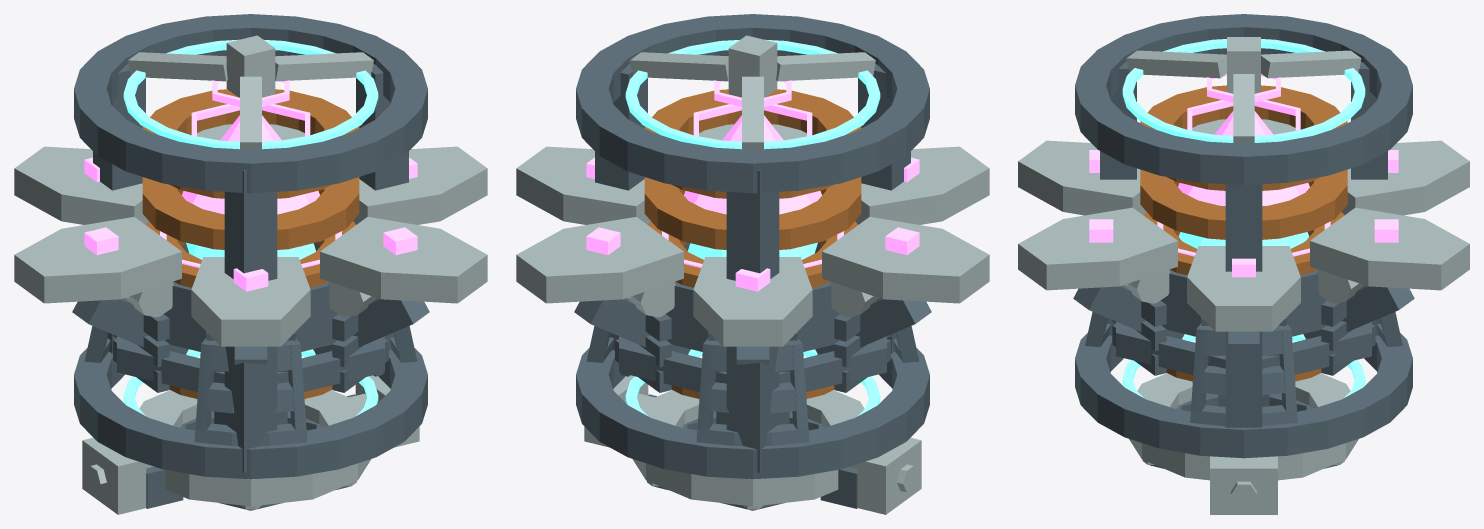
File: power_kit.glb
The picture shows the model from 3 angles, left to right: view 1: azimuth 30°, elevation 25°; view 2: azimuth 150°, elevation 25°; view 3: azimuth 270°, elevation 25°; orthographic projection. The views are drawn at different scales.
Parts seen in each view (by area): view 1: PK_surge_cage, PK_shield_petals, PK_surge_mount, PK_shield_housing, PK_surge_capacitors, PK_surge_core, PK_shield_core, PK_shield_lattice; view 2: PK_surge_cage, PK_shield_petals, PK_surge_mount, PK_shield_housing, PK_surge_capacitors, PK_surge_core, PK_shield_core, PK_shield_lattice; view 3: PK_surge_cage, PK_shield_petals, PK_surge_mount, PK_shield_housing, PK_surge_capacitors, PK_surge_core, PK_shield_core, PK_shield_lattice.
Part boxes in pixels (x1,y1,x2,y2): PK_surge_cage: [74, 14, 427, 479]; PK_shield_petals: [14, 124, 487, 346]; PK_surge_mount: [82, 35, 419, 514]; PK_shield_housing: [72, 242, 429, 510]; PK_surge_capacitors: [142, 89, 359, 398]; PK_surge_core: [123, 39, 378, 416]; PK_shield_core: [84, 115, 417, 291]; PK_shield_lattice: [191, 80, 310, 136]; PK_surge_cage: [576, 14, 929, 479]; PK_shield_petals: [516, 124, 989, 346]; PK_surge_mount: [584, 35, 921, 514]; PK_shield_housing: [574, 242, 931, 510]; PK_surge_capacitors: [644, 89, 861, 398]; PK_surge_core: [625, 39, 880, 416]; PK_shield_core: [586, 115, 919, 291]; PK_shield_lattice: [693, 80, 812, 136]; PK_surge_cage: [1075, 14, 1412, 458]; PK_shield_petals: [1018, 119, 1469, 331]; PK_surge_mount: [1126, 37, 1361, 514]; PK_shield_housing: [1073, 235, 1414, 468]; PK_surge_capacitors: [1140, 85, 1347, 381]; PK_surge_core: [1122, 39, 1365, 398]; PK_shield_core: [1089, 111, 1398, 277]; PK_shield_lattice: [1187, 73, 1300, 130].
Bounding box in the file's own units: 1.72 × 1.57 × 1.59.
